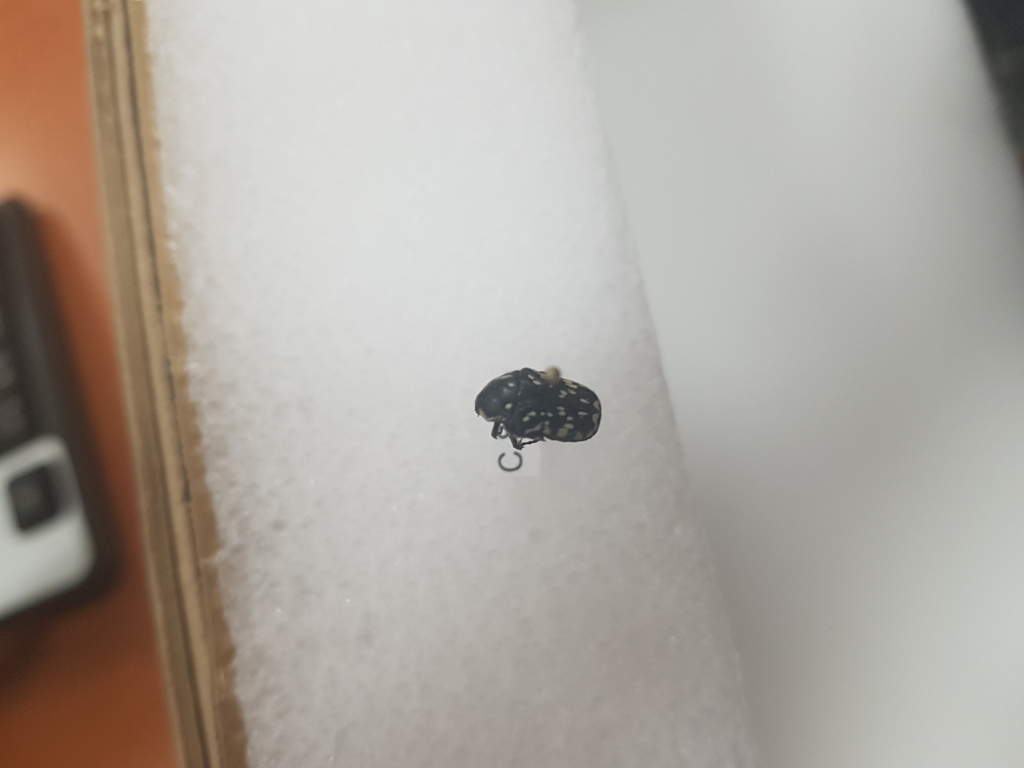Oxythyrea_albopicta: (472, 360, 611, 447)
